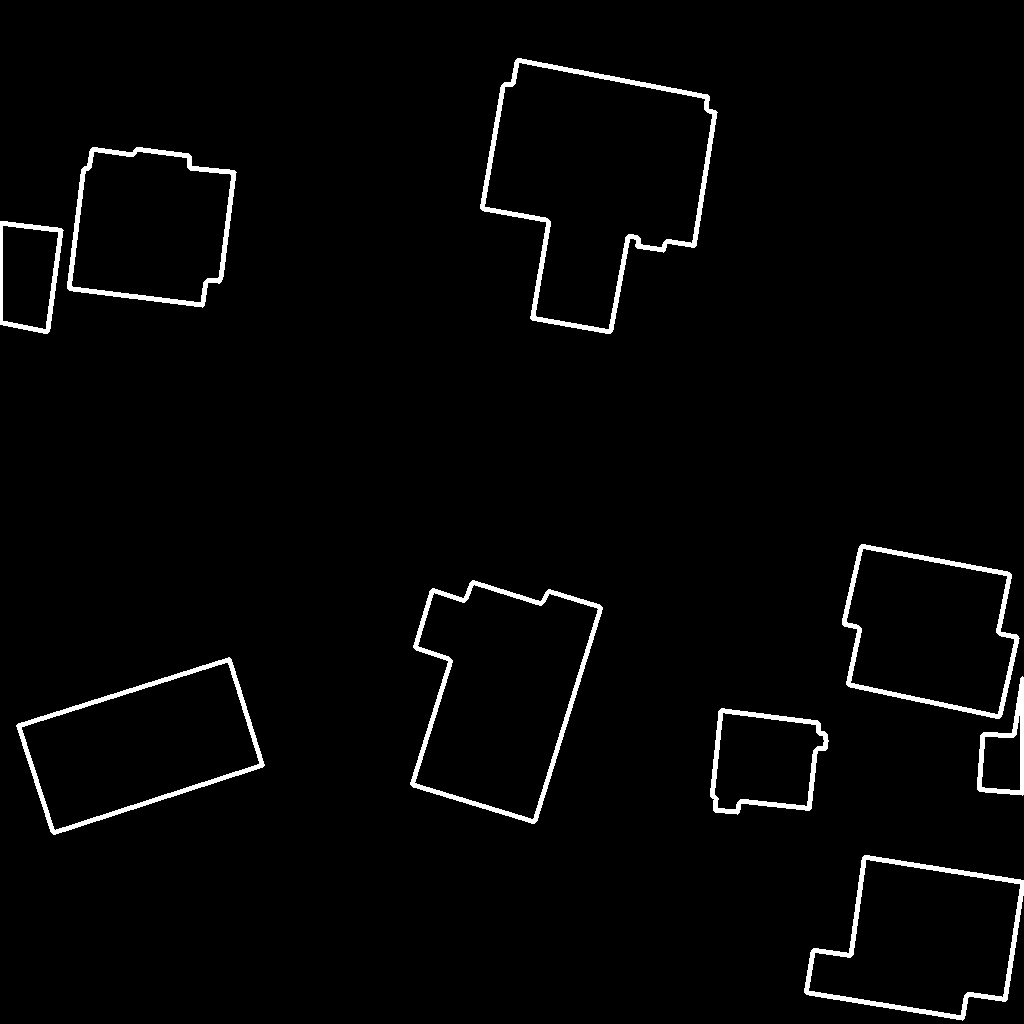building: (482, 60, 716, 333), (412, 582, 602, 823), (18, 659, 264, 834), (806, 857, 1024, 1019), (844, 546, 1018, 718), (69, 149, 235, 306), (712, 710, 827, 813), (0, 223, 62, 333), (979, 675, 1024, 794)
